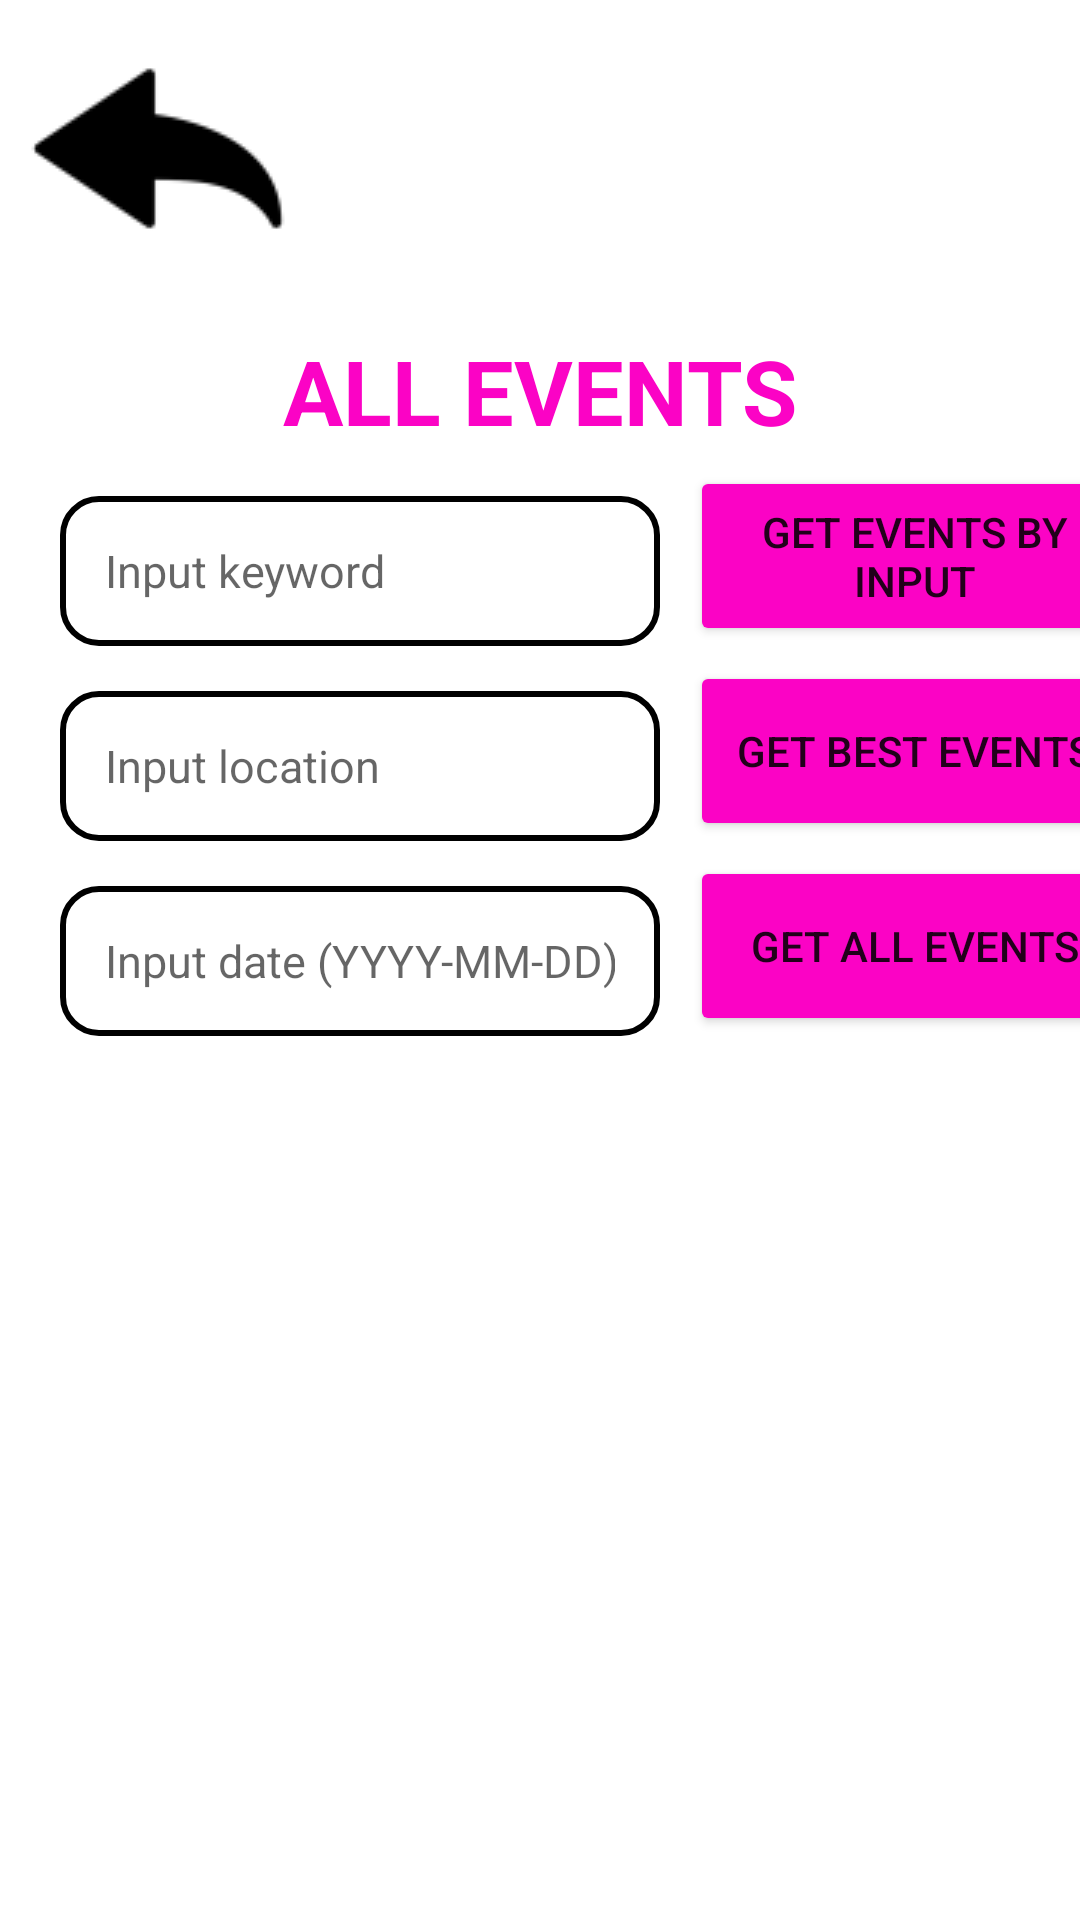

Locate icon controls on the screen. Image size 1080×1920, boxes as (x1, y1, x2, y2).
back arrow image: (33, 68, 284, 229)
